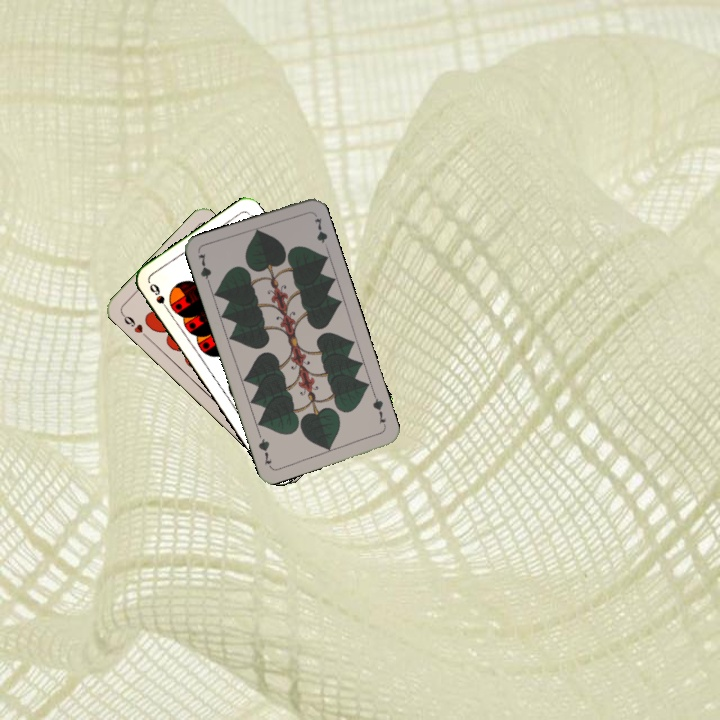G7: (194, 249, 214, 289), (369, 391, 389, 430)
H9: (118, 309, 150, 341)
S9: (145, 279, 173, 315)
